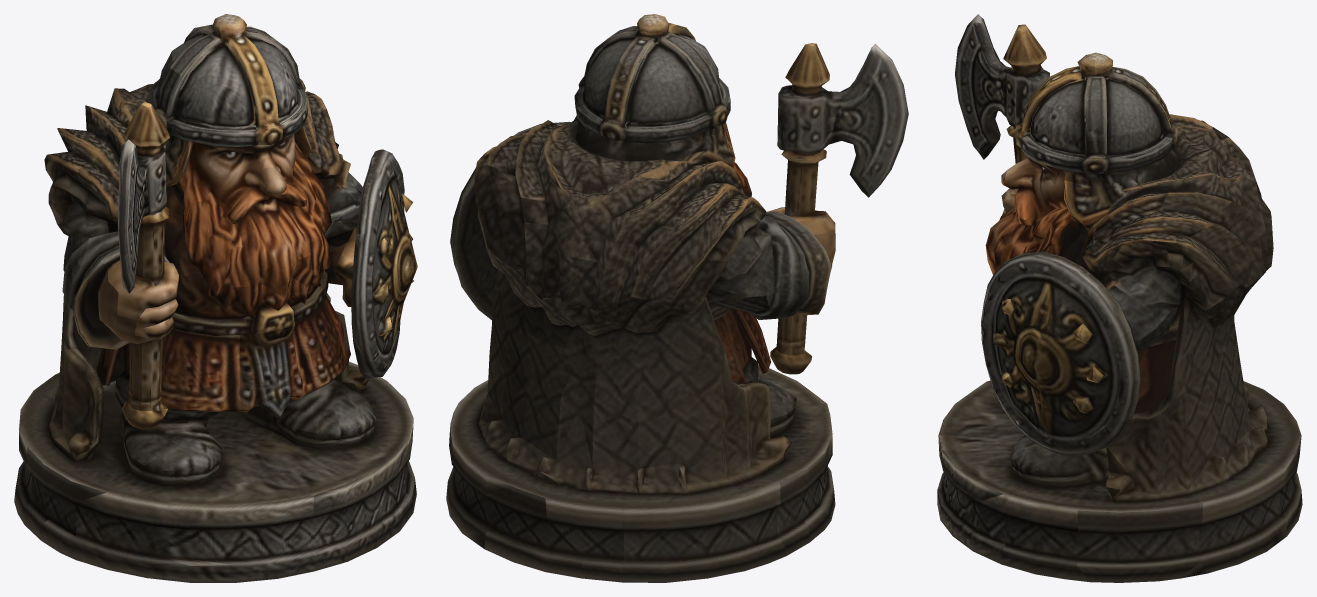
Rendered from dwarf.glb.
The picture shows the model from 3 angles, left to right: view 1: azimuth 30°, elevation 25°; view 2: azimuth 150°, elevation 25°; view 3: azimuth 270°, elevation 25°; orthographic projection. The views are drawn at different scales.
Visible parts, largest first — view 1: mesh_node; view 2: mesh_node; view 3: mesh_node.
Part boxes in pixels (x1,y1,x2,y2): mesh_node: (14, 14, 417, 582); mesh_node: (446, 14, 908, 582); mesh_node: (937, 14, 1302, 582).
Bounding box in the file's own units: 0.8047 × 1 × 0.7383.
1 material, 1 textured.
